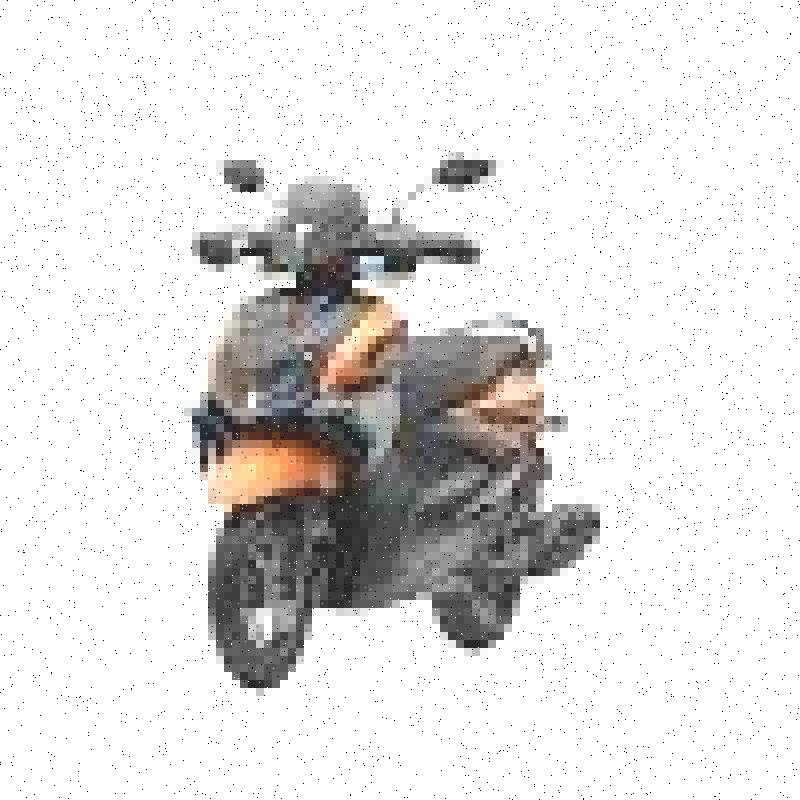bike: (165, 117, 626, 708)
